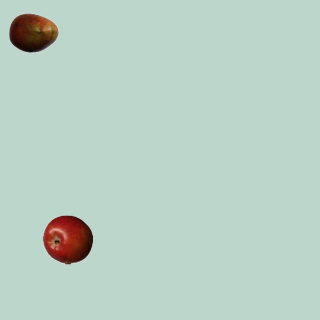Apple Braeburn: (42, 214, 92, 264)
Mango Red: (8, 7, 58, 57)
